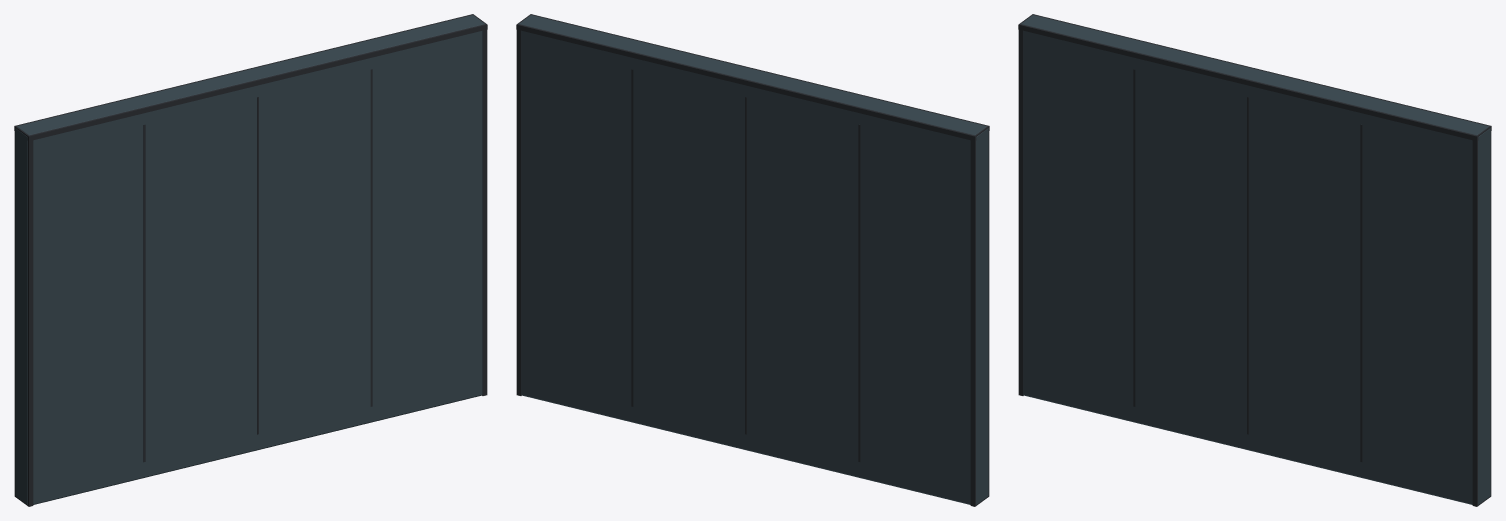
The model's file is partition.glb.
The picture shows the model from 3 angles, left to right: view 1: azimuth 30°, elevation 25°; view 2: azimuth 150°, elevation 25°; view 3: azimuth 330°, elevation 25°; orthographic projection.
Parts seen in each view (by area): view 1: partition; view 2: partition; view 3: partition.
Part boxes in pixels (x1=…): partition: x1=14, y1=14, x2=487, y2=506; partition: x1=516, y1=14, x2=989, y2=506; partition: x1=1018, y1=14, x2=1491, y2=506.
Size of the model in its own units: 2.85 by 2.2 by 0.156.
